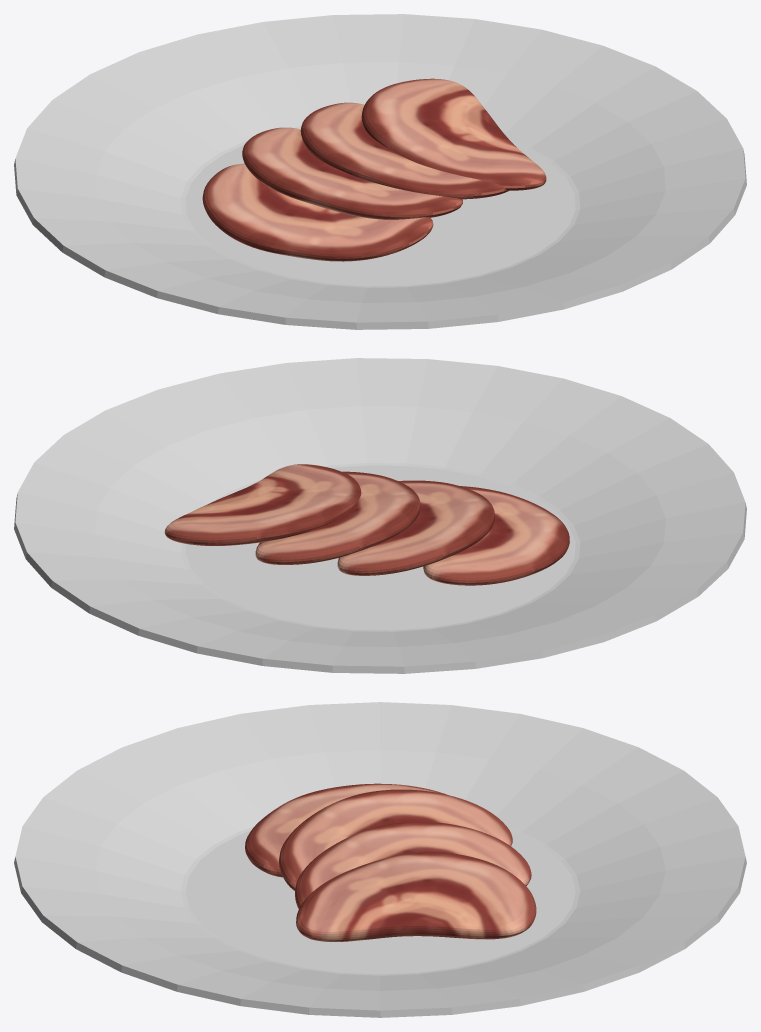
The model's file is grilled_trimmed_pork.fbx.
3 renders of one model, top to bottom at view 1: azimuth 30°, elevation 25°; view 2: azimuth 150°, elevation 25°; view 3: azimuth 270°, elevation 25°, orthographic.
Visible parts, largest first — view 1: 원형.036, 구운 손질된 돼지고기; view 2: 원형.036, 구운 손질된 돼지고기; view 3: 원형.036, 구운 손질된 돼지고기.
Boxes of the visible parts, <box> form: 원형.036: <box>14,14,746,329</box>; 구운 손질된 돼지고기: <box>202,78,546,261</box>; 원형.036: <box>14,358,746,673</box>; 구운 손질된 돼지고기: <box>164,464,569,585</box>; 원형.036: <box>14,702,746,1017</box>; 구운 손질된 돼지고기: <box>245,783,536,941</box>.
Bounding box in the file's own units: 293 × 30.76 × 293.
